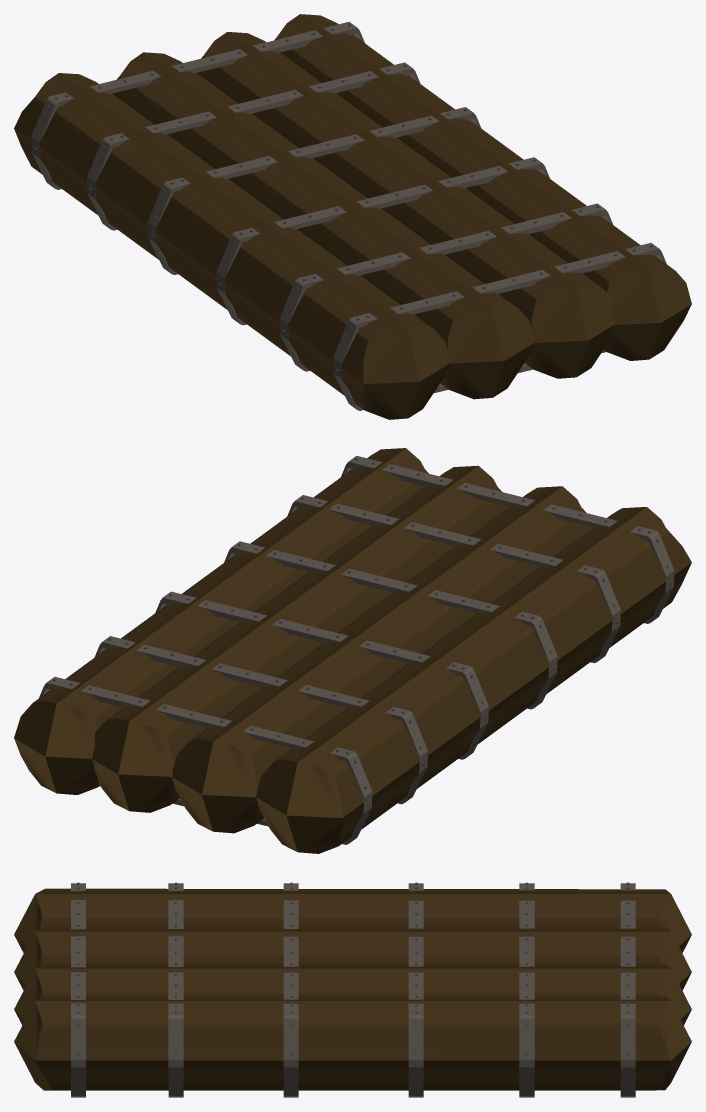
Rendered from FloatingRaftTest.fbx.
3 renders of one model, top to bottom at view 1: azimuth 30°, elevation 25°; view 2: azimuth 150°, elevation 25°; view 3: azimuth 270°, elevation 25°, orthographic. The views are drawn at different scales.
Visible parts, largest first — view 1: pCube137; view 2: pCube137; view 3: pCube137.
Boxes of the visible parts, x1,y1,x2,y2 form: pCube137: (14, 14, 691, 419); pCube137: (14, 448, 691, 853); pCube137: (14, 882, 691, 1097).
Size of the model in its own units: 2.26 by 0.5899 by 4.33.
